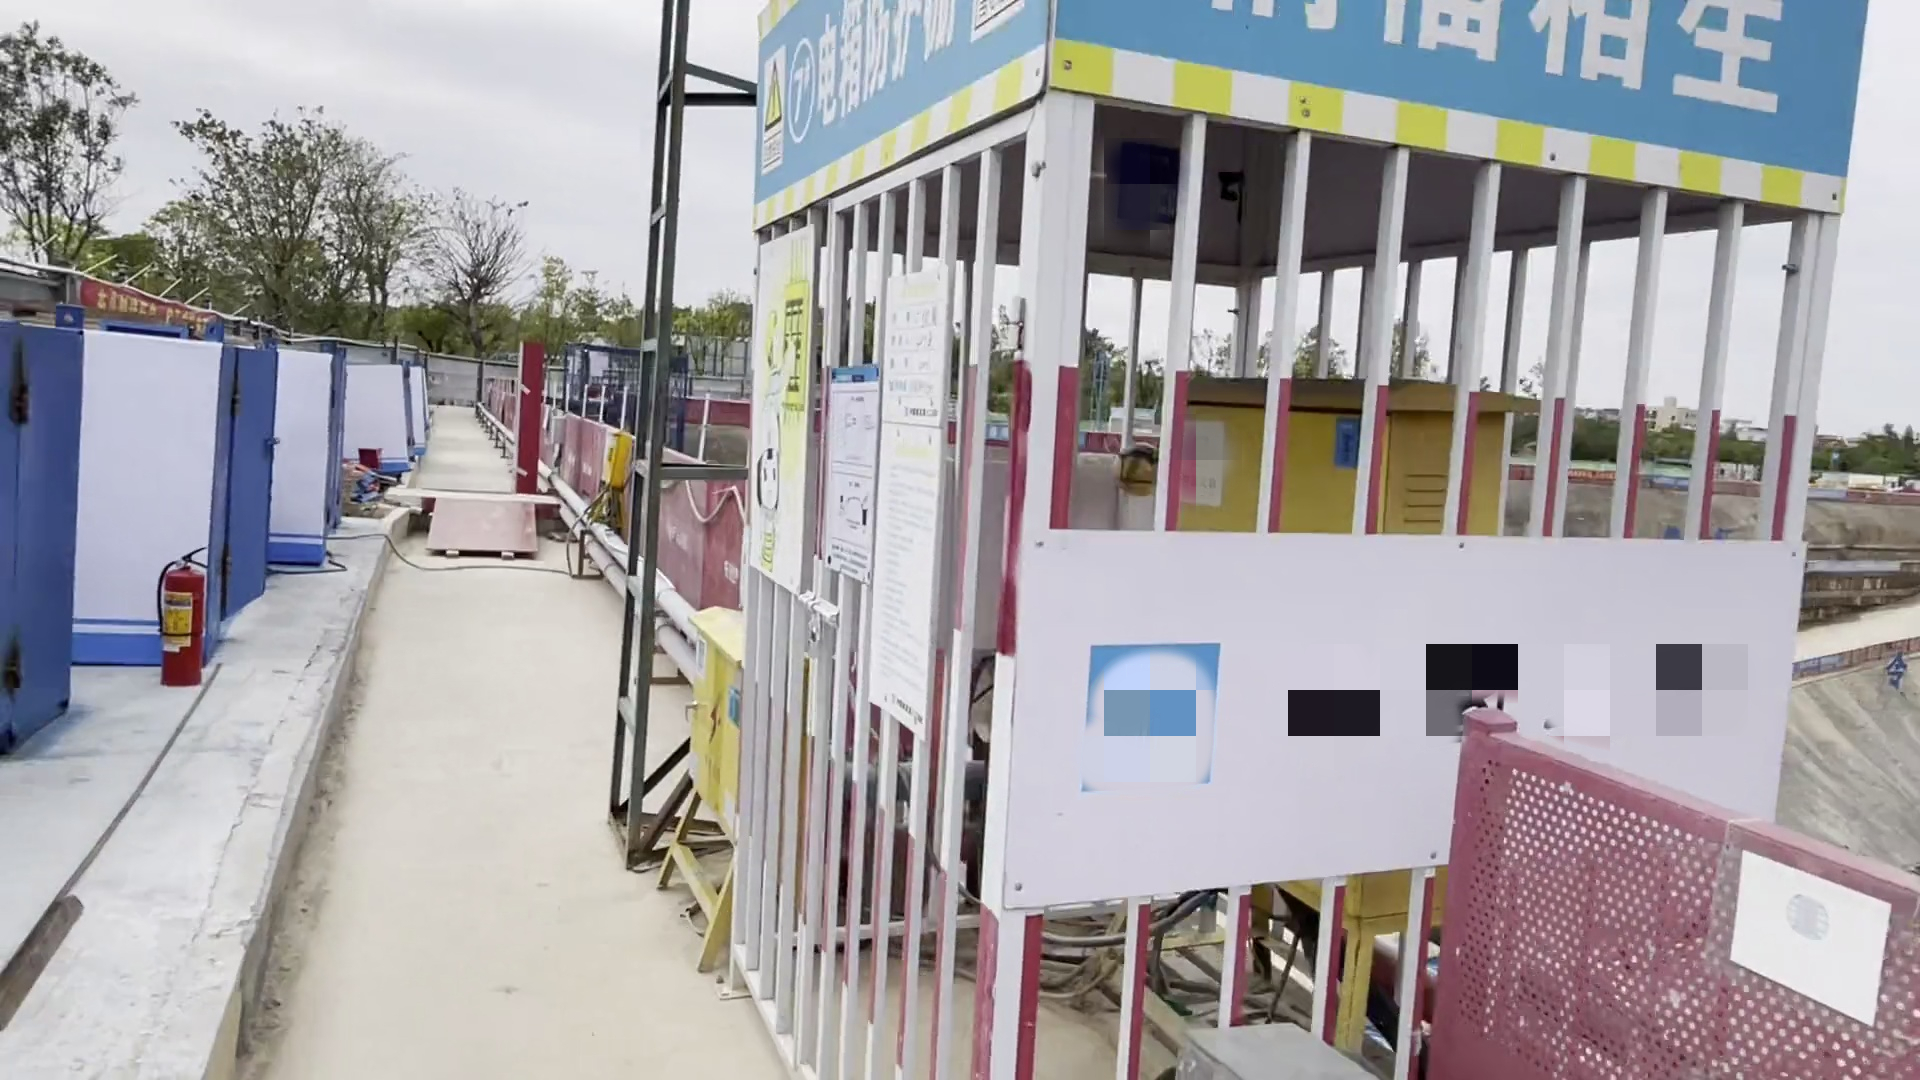board: (429, 492, 549, 571)
ebox: (1188, 352, 1543, 534), (640, 593, 766, 982), (600, 429, 629, 502)
fence: (1448, 742, 1898, 1080)
slogan: (760, 1, 1845, 219), (738, 211, 822, 603), (69, 280, 222, 338)
